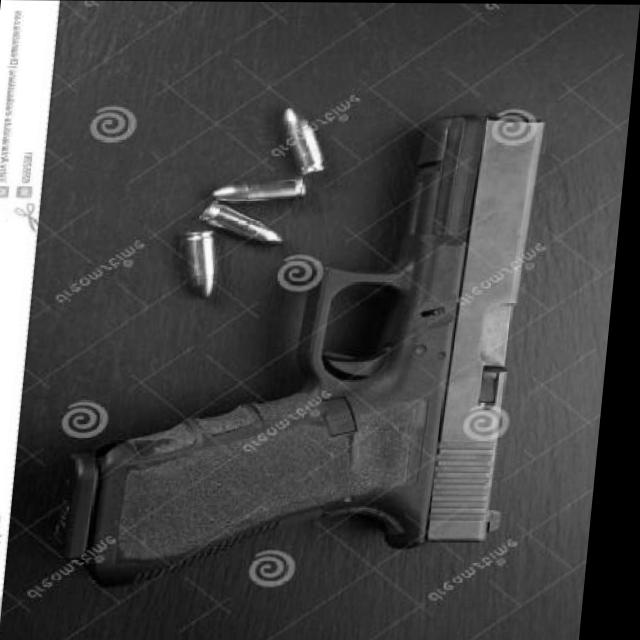handgun: (56, 116, 547, 588)
